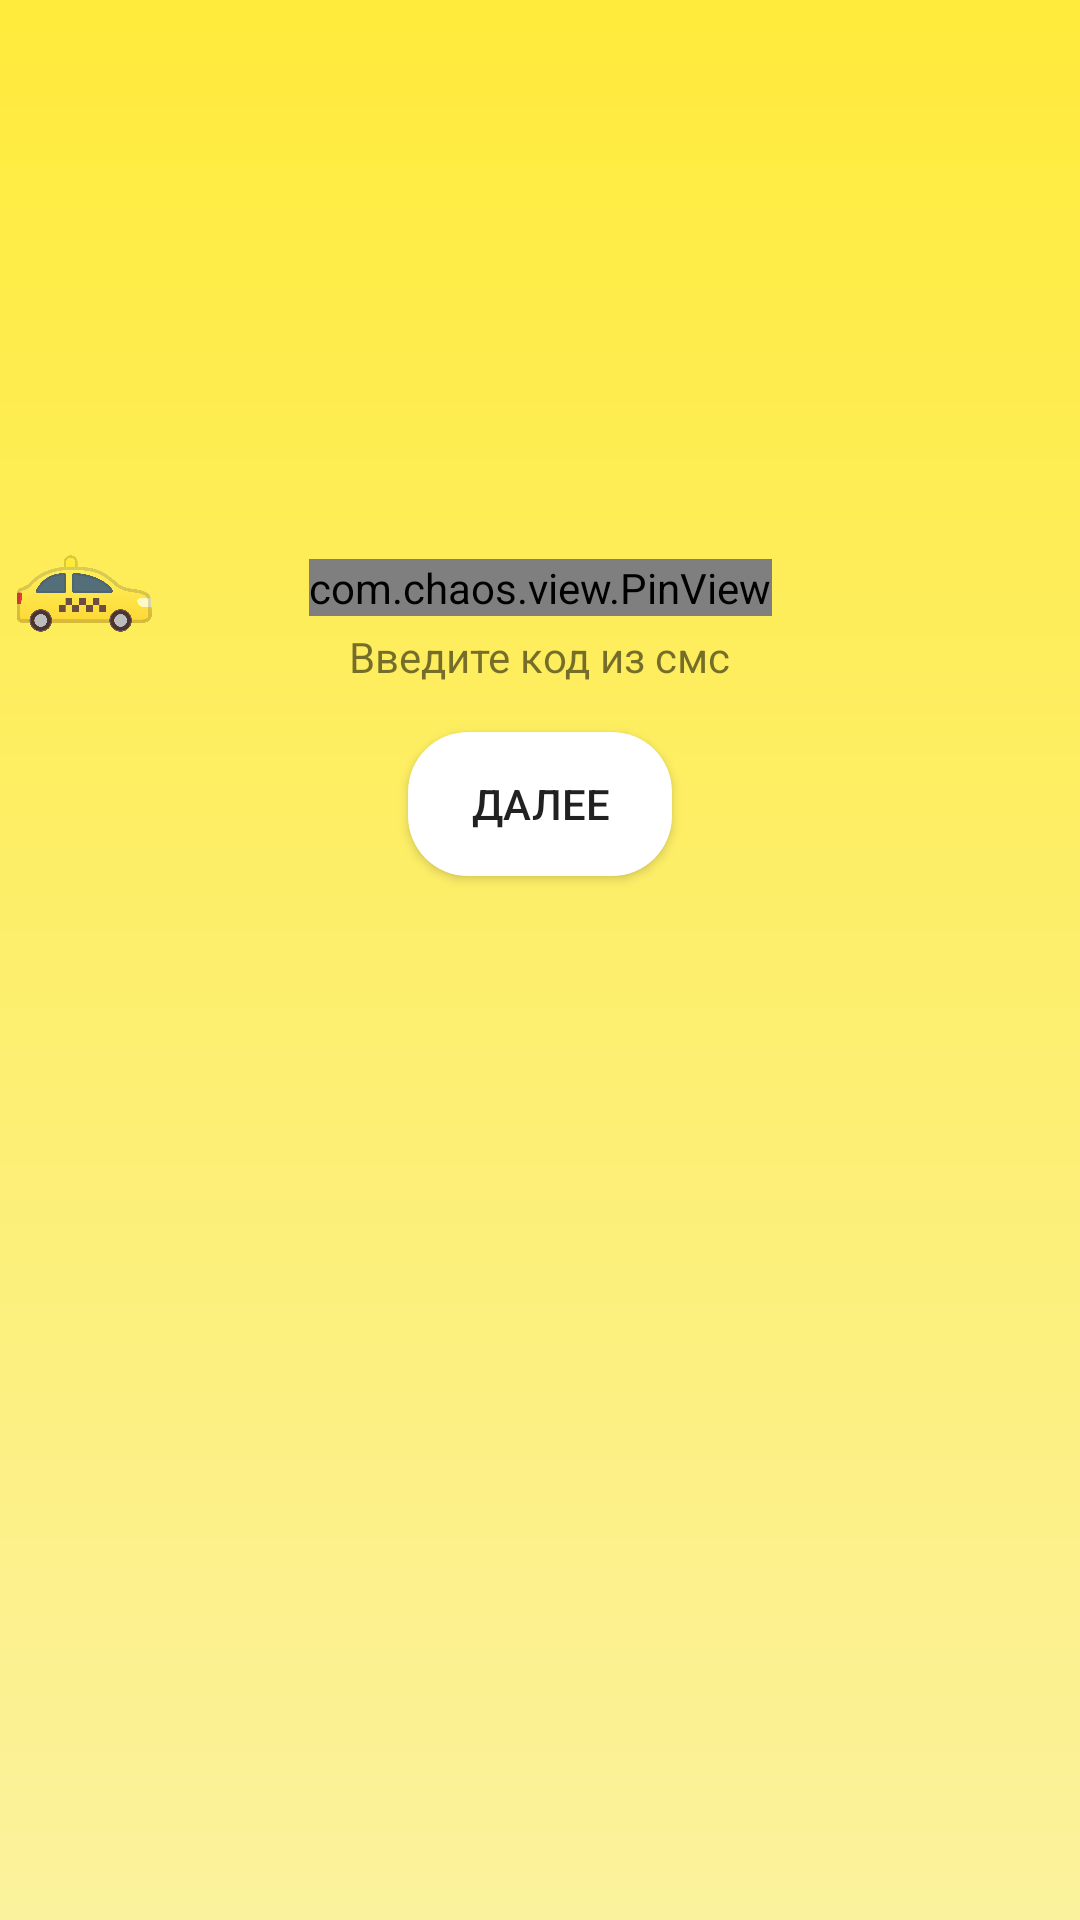

Icon click points for this 1080x1920 phone screenshot, format point (x, y):
taxi cab: point (84, 593)
